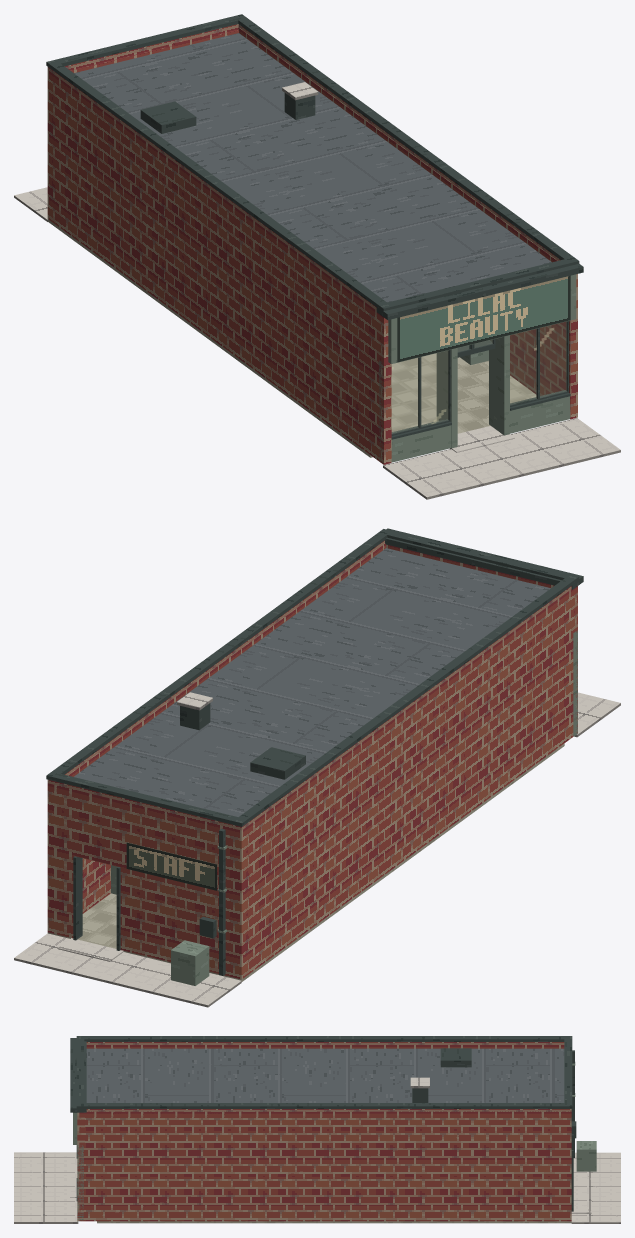
File: salon-1940.glb
3 renders of one model, top to bottom at view 1: azimuth 30°, elevation 25°; view 2: azimuth 150°, elevation 25°; view 3: azimuth 270°, elevation 25°, orthographic. The views are drawn at different scales.
Parts seen in each view (by area): view 1: shell, lot, sign_name, fixed_interior; view 2: shell, lot, fixed_interior, sign_staff; view 3: shell, lot, fixed_interior.
Part boxes in pixels (x1,y1,x2,y2): shell: (46,14,583,464); lot: (14,187,620,499); sign_name: (397,275,570,362); fixed_interior: (47,219,536,457); shell: (46,528,583,979); lot: (14,692,620,1007); fixed_interior: (47,743,564,981); sign_staff: (126,842,216,890); shell: (70,1036,591,1221); lot: (14,1141,620,1223); fixed_interior: (97,1221,571,1223).
Size of what is drawn, in the model's own units: 6.05 by 5.06 by 22.1.
Materials: 9 (9 with a texture image).
